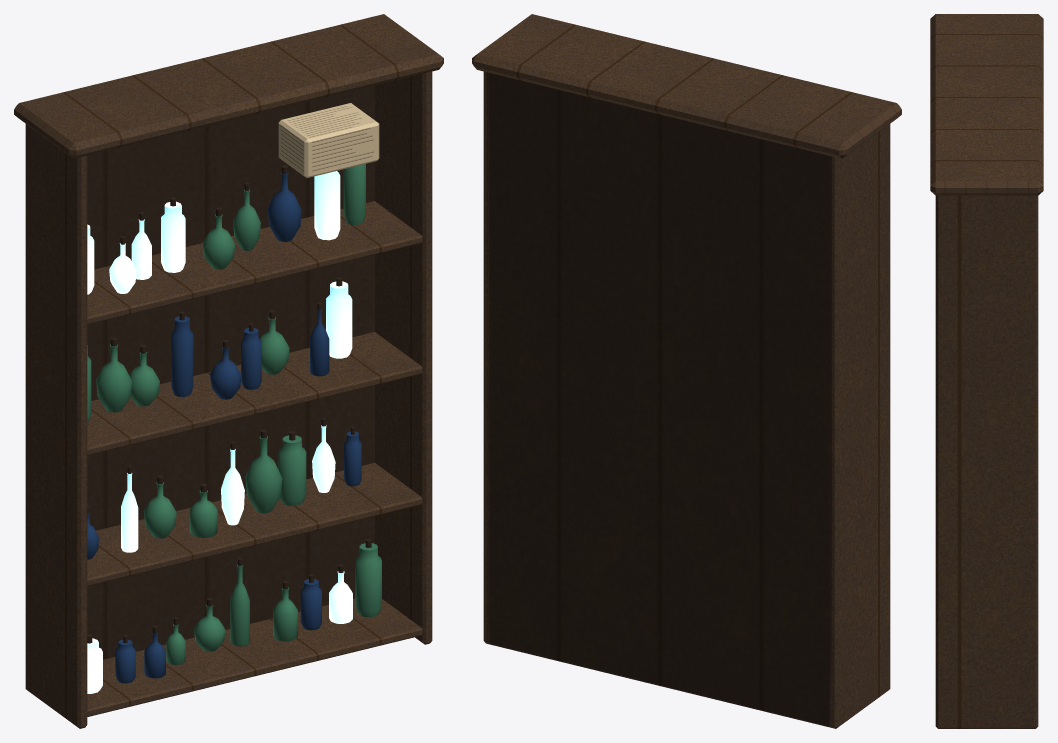
The model's file is apothecary_shelf.glb.
3 views of the same model, side by side, from view 1: azimuth 30°, elevation 25°; view 2: azimuth 150°, elevation 25°; view 3: azimuth 270°, elevation 25° (orthographic). The views are drawn at different scales.
Visible parts, largest first — view 1: apothecary_shelf; view 2: apothecary_shelf; view 3: apothecary_shelf.
Part boxes in pixels (box(x1,y1,x2,y2)): apothecary_shelf: box(14, 14, 443, 728); apothecary_shelf: box(472, 14, 901, 728); apothecary_shelf: box(930, 14, 1043, 728).
Size of the model in its own units: 1.5 by 2.25 by 0.42.
1 material, 1 textured.
